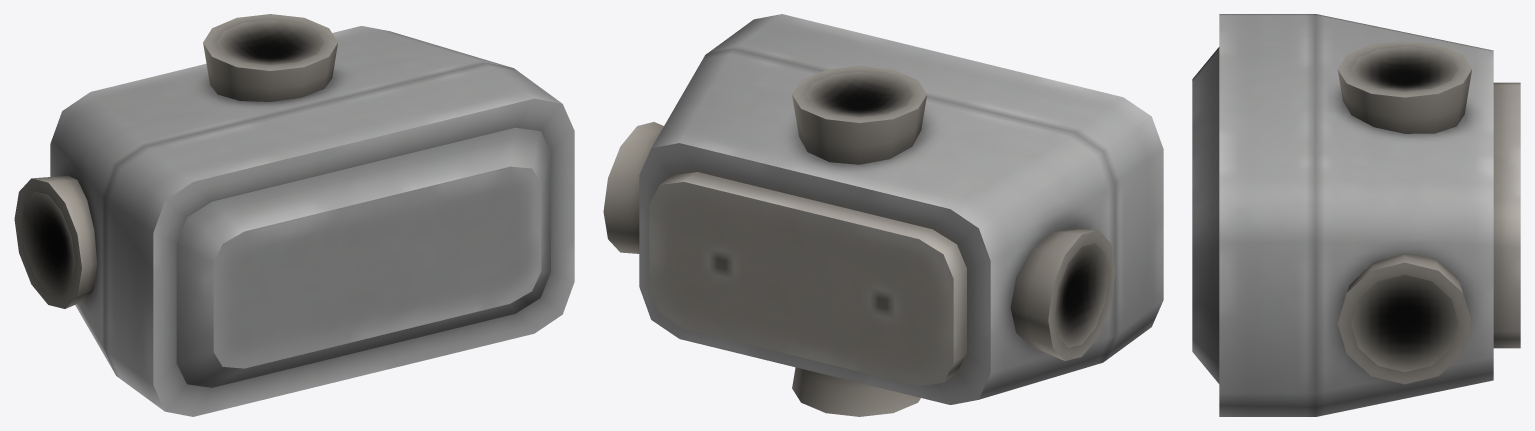
File: Tantares_MOE_1.obj
3 renders of one model, left to right at view 1: azimuth 30°, elevation 25°; view 2: azimuth 150°, elevation 25°; view 3: azimuth 270°, elevation 25°, orthographic.
Parts seen in each view (by area): view 1: Tantares_MOE_1; view 2: Tantares_MOE_1; view 3: Tantares_MOE_1.
Boxes of the visible parts, <box> form: Tantares_MOE_1: <box>14,14,574,416</box>; Tantares_MOE_1: <box>603,14,1163,416</box>; Tantares_MOE_1: <box>1192,14,1520,416</box>.
Bounding box in the file's own units: 0.2375 × 0.15 × 0.1525.
